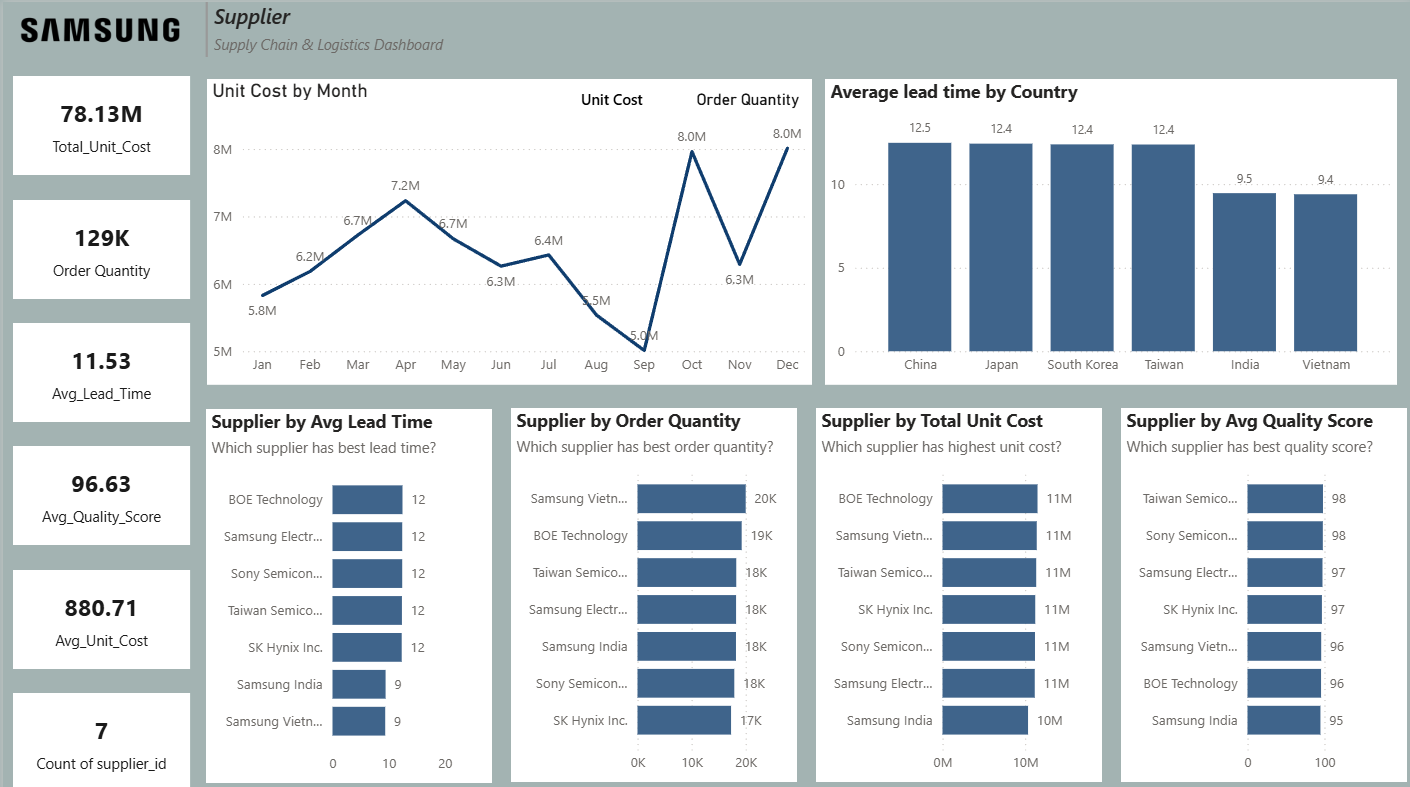

The dashboard page shown, as its layout file describes it:
{"tool":"powerbi","page":{"name":"Supplier","canvas":[1280,720],"ordinal":2},"visuals":[{"type":"shape","title":"Supplier","box":[192.1,0,244.2,50.3],"z":0},{"type":"group","id":"g1","title":"Group 1","box":[185,70,550,277.5],"z":0,"group":"g2"},{"type":"shape","box":[167,0,35.9,50.3],"z":1000},{"type":"advancedSlicerVisual","fields":{"Values":["Cost_Qty_Supplier.Cost_Qty_Supplier"]},"box":[515,70,220,37.5],"z":1000,"group":"g2"},{"type":"image","box":[0,0,169.7,50.3],"z":2000},{"type":"cardVisual","fields":{"Data":["MeasuresTable.Order_QTY"]},"box":[9,179.6,161,90],"z":3000},{"type":"cardVisual","fields":{"Data":["MeasuresTable.Avg_Lead_Time"]},"box":[9,291.8,161,90],"z":4000},{"type":"cardVisual","fields":{"Data":["CountNonNull(dim_supplier.supplier_id)"]},"box":[9,628.4,161,90],"z":5000},{"type":"cardVisual","fields":{"Data":["MeasuresTable.Avg_Quality_Score"]},"box":[9,404,161,90],"z":6000},{"type":"cardVisual","fields":{"Data":["MeasuresTable.Total_Unit_Cost"]},"box":[9,67.3,161,90],"z":7000},{"type":"cardVisual","fields":{"Data":["MeasuresTable.Avg_Unit_Cost"]},"box":[9,516.2,161,90],"z":8000},{"type":"clusteredBarChart","title":"Supplier by Avg Lead Time","fields":{"Category":["dim_supplier.supplier_name"],"Y":["MeasuresTable.Avg_Lead_Time"]},"box":[184.9,370,260,340],"z":9000},{"type":"clusteredBarChart","title":"Supplier by Order Quantity","fields":{"Category":["dim_supplier.supplier_name"],"Y":["MeasuresTable.Order_QTY"]},"box":[462.1,369.5,260,340],"z":10000},{"type":"clusteredBarChart","title":"Supplier by Total Unit Cost","fields":{"Category":["dim_supplier.supplier_name"],"Y":["MeasuresTable.Total_Unit_Cost"]},"box":[739.3,368.8,260,340],"z":11000},{"type":"clusteredColumnChart","title":"Average lead time by Country","fields":{"Category":["dim_supplier.country"],"Y":["MeasuresTable.Avg_Lead_Time"]},"box":[747.5,70,520,277.5],"z":12000},{"type":"lineChart","fields":{"Y":["MeasuresTable.Total_Unit_Cost"],"Category":["dim_date.Month_Short"]},"box":[185,70,550,277.5],"z":12002,"group":"g1"},{"type":"group","id":"g2","title":"Group 2","box":[185,70,550,277.5],"z":13000},{"type":"clusteredBarChart","title":"Supplier by Avg Quality Score","fields":{"Category":["dim_supplier.supplier_name"],"Y":["MeasuresTable.Avg_Quality_Score"]},"box":[1016.2,369.4,260,340],"z":14000}]}

Visuals, with their boxes in screenshot pixels (x1, y1, x2, y2), scaled from the page's 1280x720 canvas onto the 1410x787 screenshot:
"Supplier" shape: [x1=212, y1=0, x2=481, y2=55]
"Group 1" group: [x1=204, y1=77, x2=810, y2=380]
shape: [x1=184, y1=0, x2=224, y2=55]
advancedSlicerVisual - Cost_Qty_Supplier.Cost_Qty_Supplier: [x1=567, y1=77, x2=810, y2=118]
image: [x1=0, y1=0, x2=187, y2=55]
cardVisual - MeasuresTable.Order_QTY: [x1=10, y1=196, x2=187, y2=295]
cardVisual - MeasuresTable.Avg_Lead_Time: [x1=10, y1=319, x2=187, y2=417]
cardVisual - CountNonNull(dim_supplier.supplier_id): [x1=10, y1=687, x2=187, y2=785]
cardVisual - MeasuresTable.Avg_Quality_Score: [x1=10, y1=442, x2=187, y2=540]
cardVisual - MeasuresTable.Total_Unit_Cost: [x1=10, y1=74, x2=187, y2=172]
cardVisual - MeasuresTable.Avg_Unit_Cost: [x1=10, y1=564, x2=187, y2=663]
"Supplier by Avg Lead Time" clusteredBarChart: [x1=204, y1=404, x2=490, y2=776]
"Supplier by Order Quantity" clusteredBarChart: [x1=509, y1=404, x2=795, y2=776]
"Supplier by Total Unit Cost" clusteredBarChart: [x1=814, y1=403, x2=1101, y2=775]
"Average lead time by Country" clusteredColumnChart: [x1=823, y1=77, x2=1396, y2=380]
lineChart - MeasuresTable.Total_Unit_Cost x dim_date.Month_Short: [x1=204, y1=77, x2=810, y2=380]
"Group 2" group: [x1=204, y1=77, x2=810, y2=380]
"Supplier by Avg Quality Score" clusteredBarChart: [x1=1119, y1=404, x2=1406, y2=775]
